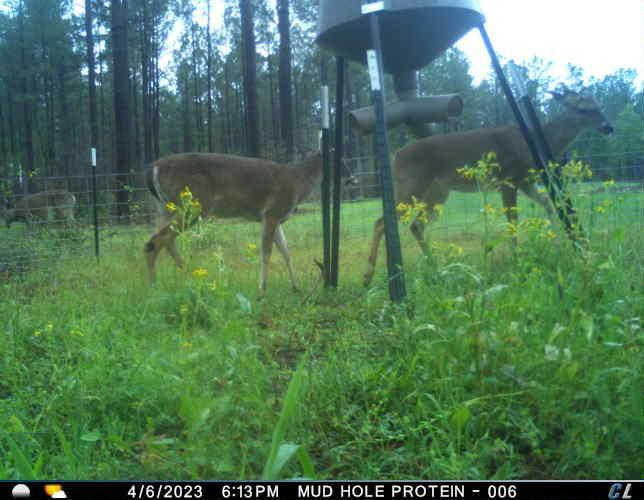Deer: (361, 80, 613, 291), (143, 131, 359, 303), (0, 188, 77, 245)
